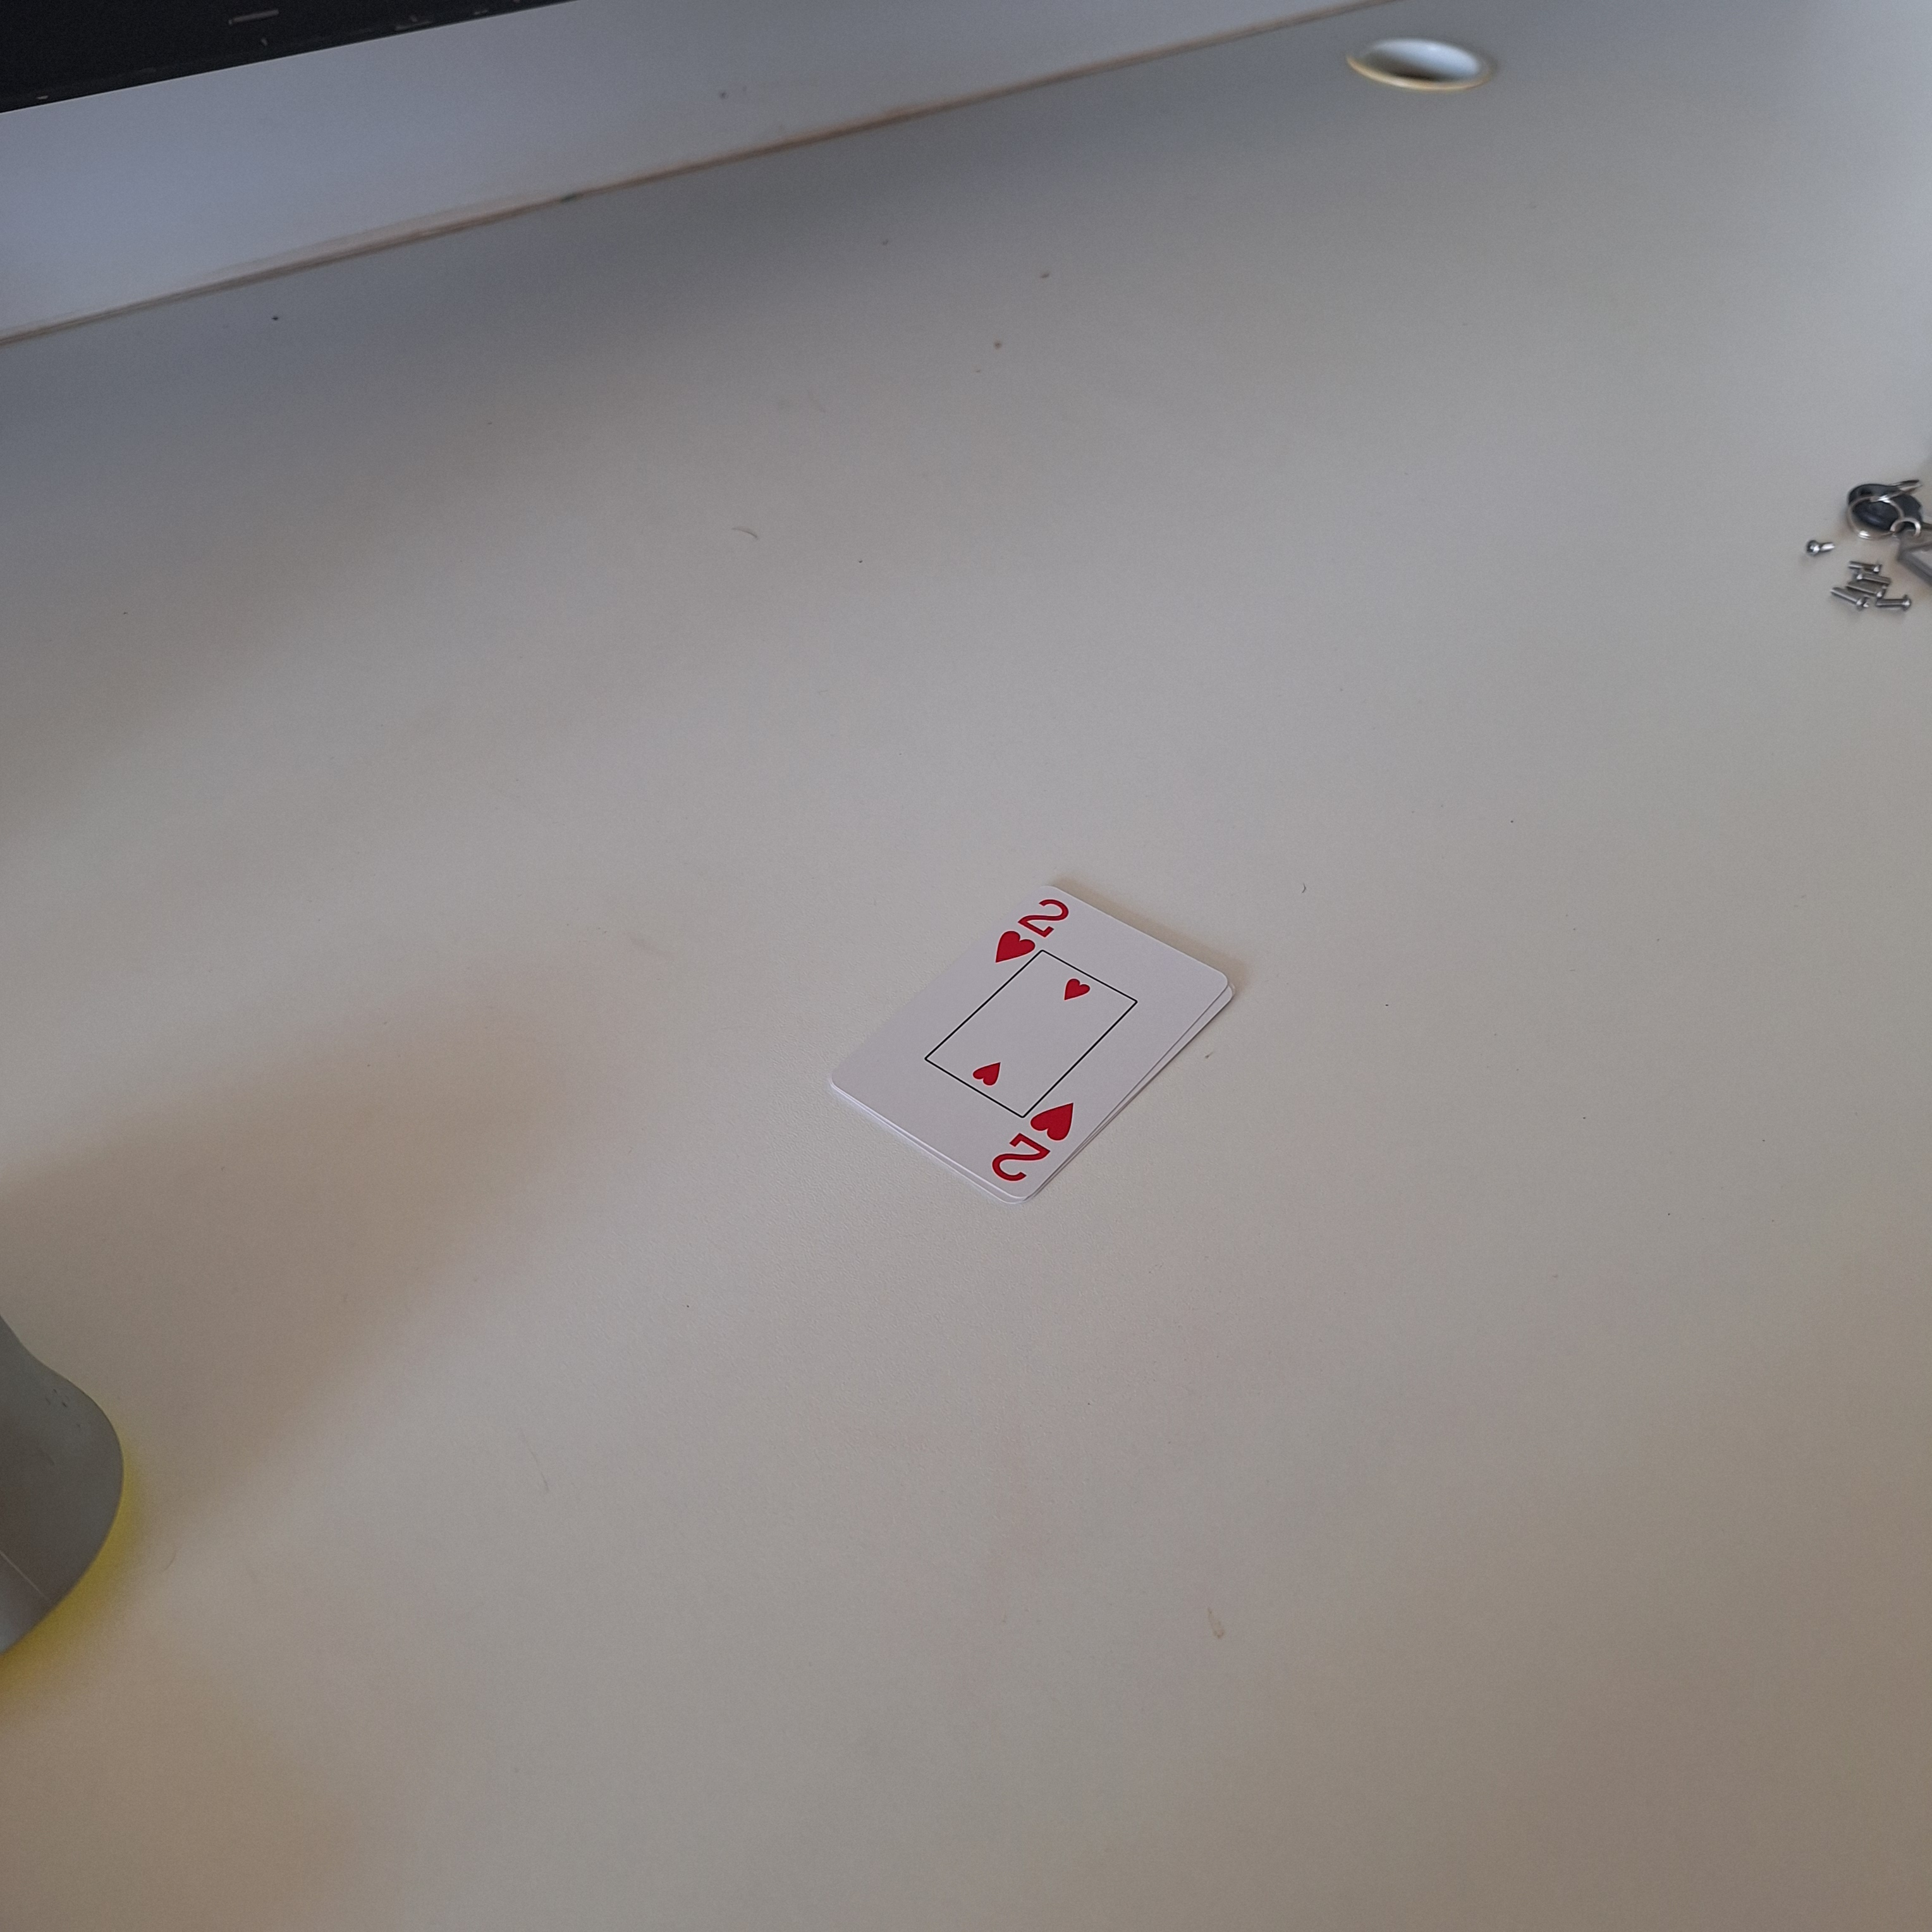2C: (984, 1095, 1081, 1200), (984, 886, 1074, 970)
